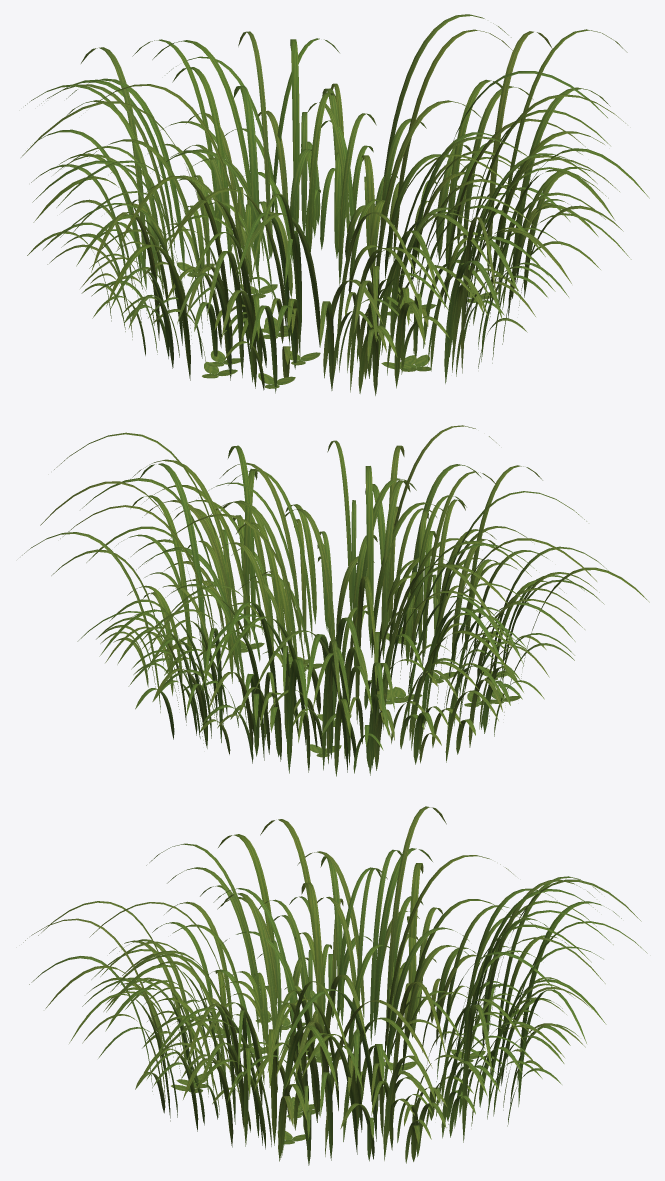
Rendered from m-meadow.glb.
The picture shows the model from 3 angles, top to bottom: view 1: azimuth 30°, elevation 25°; view 2: azimuth 150°, elevation 25°; view 3: azimuth 270°, elevation 25°; orthographic projection. The views are drawn at different scales.
Visible parts, largest first — view 1: Foliage; view 2: Foliage; view 3: Foliage.
Part boxes in pixels (x1=…): Foliage: x1=21, y1=14, x2=649, y2=395; Foliage: x1=22, y1=425, x2=649, y2=776; Foliage: x1=23, y1=806, x2=647, y2=1165.
Size of the model in its own units: 1.96 by 0.72 by 2.
Materials: 1 (1 with a texture image).
